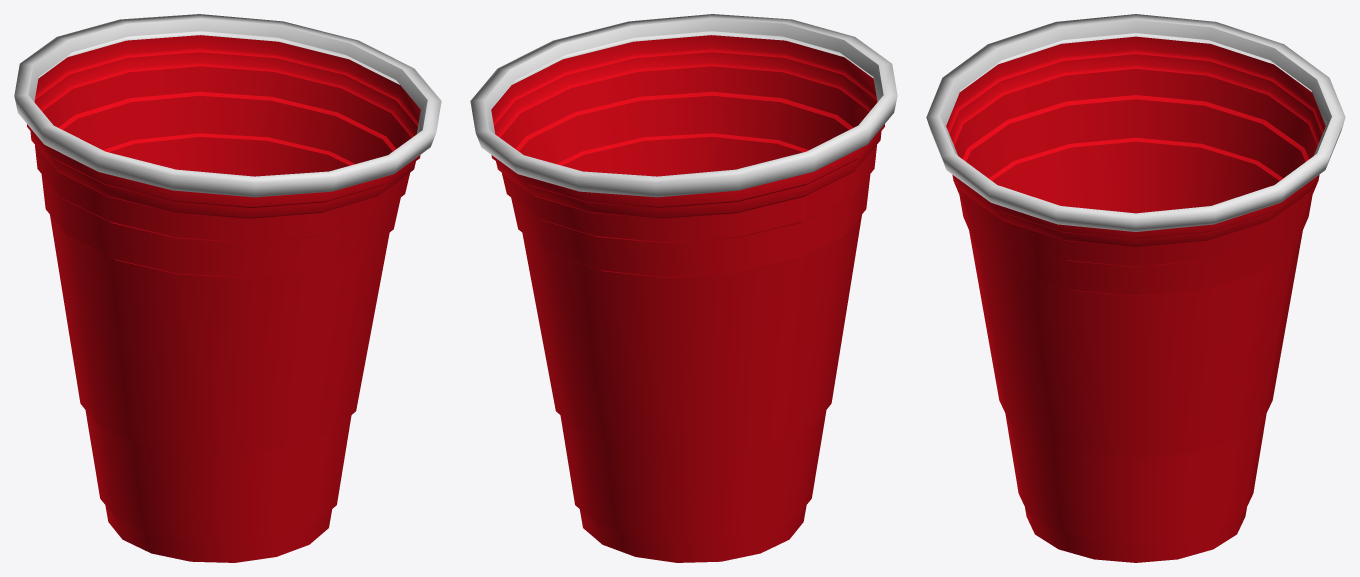
The model's file is cup.glb.
The picture shows the model from 3 angles, left to right: view 1: azimuth 30°, elevation 25°; view 2: azimuth 150°, elevation 25°; view 3: azimuth 270°, elevation 25°; orthographic projection. The views are drawn at different scales.
Visible parts, largest first — view 1: defaultMaterial.001, defaultMaterial; view 2: defaultMaterial.001, defaultMaterial; view 3: defaultMaterial.001, defaultMaterial.
Part boxes in pixels (x1,y1,x2,y2): defaultMaterial.001: (27, 35, 420, 562); defaultMaterial: (14, 14, 441, 197); defaultMaterial.001: (491, 35, 884, 562); defaultMaterial: (470, 14, 897, 197); defaultMaterial.001: (946, 36, 1325, 562); defaultMaterial: (926, 14, 1345, 231).
Bounding box in the file's own units: 0.9016 × 0.9953 × 0.9045.
